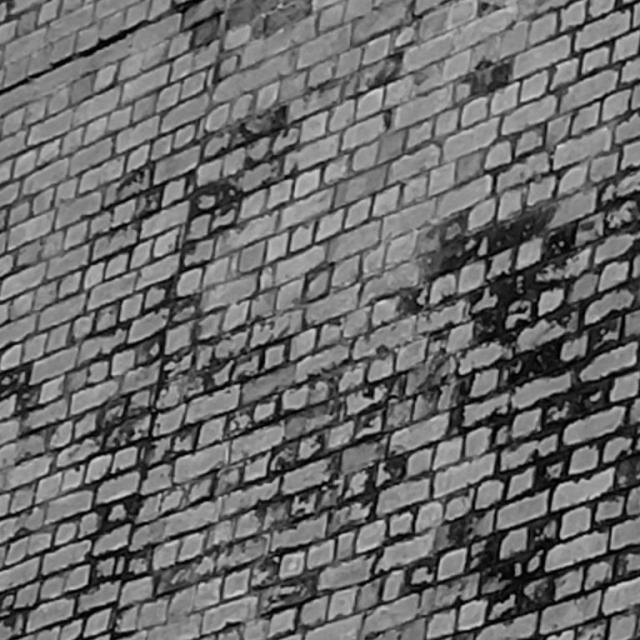crack: (1, 1, 202, 94)
